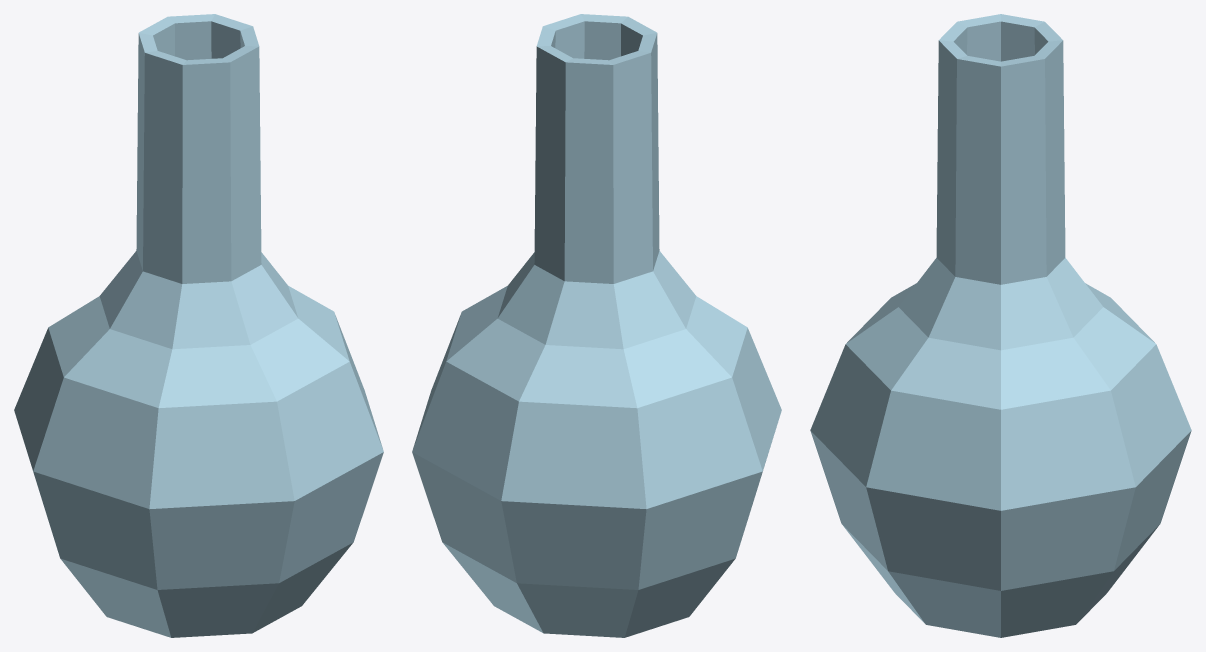
The model's file is SM_Flask_B.fbx.
3 renders of one model, left to right at view 1: azimuth 30°, elevation 25°; view 2: azimuth 150°, elevation 25°; view 3: azimuth 270°, elevation 25°, orthographic.
Parts seen in each view (by area): view 1: SM_Flask_B; view 2: SM_Flask_B; view 3: SM_Flask_B.
Part boxes in pixels (x1,y1,x2,y2): SM_Flask_B: (14, 14, 383, 637); SM_Flask_B: (412, 14, 781, 637); SM_Flask_B: (810, 14, 1191, 637).
Bounding box in the file's own units: 11.58 × 18.52 × 11.58.
